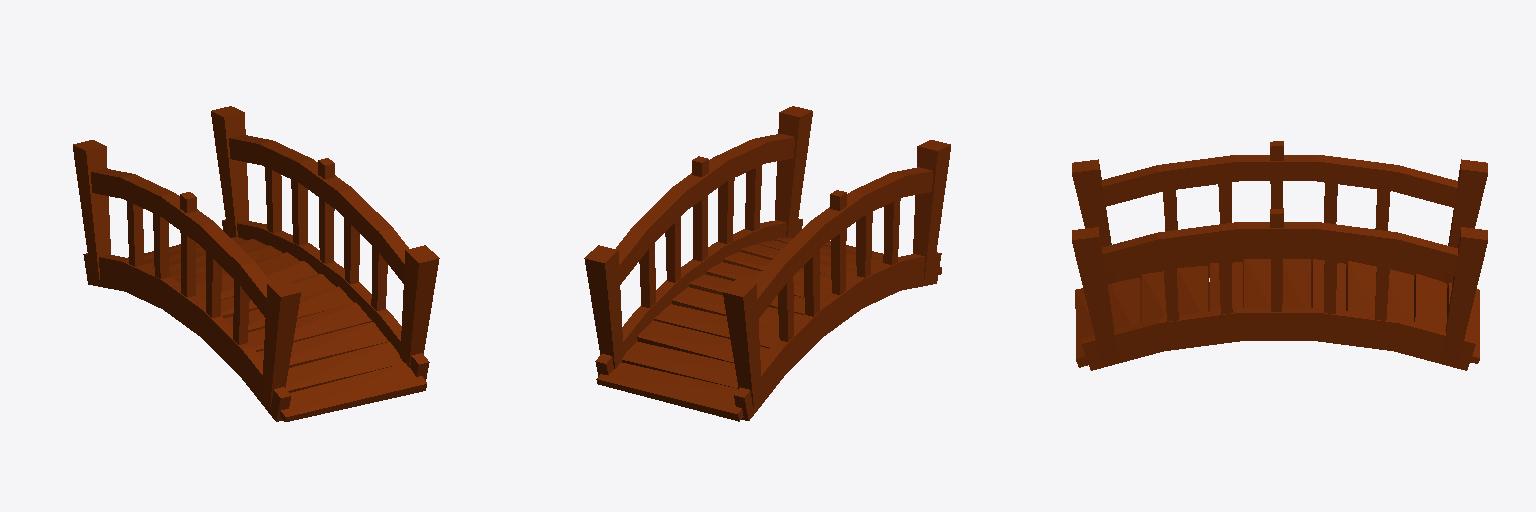
Rendered from bridge1.obj.
The picture shows the model from 3 angles: view 1: azimuth 30°, elevation 25°; view 2: azimuth 150°, elevation 25°; view 3: azimuth 270°, elevation 25°; orthographic projection.
Size of the model in its own units: 1.79 by 1.7 by 4.08.